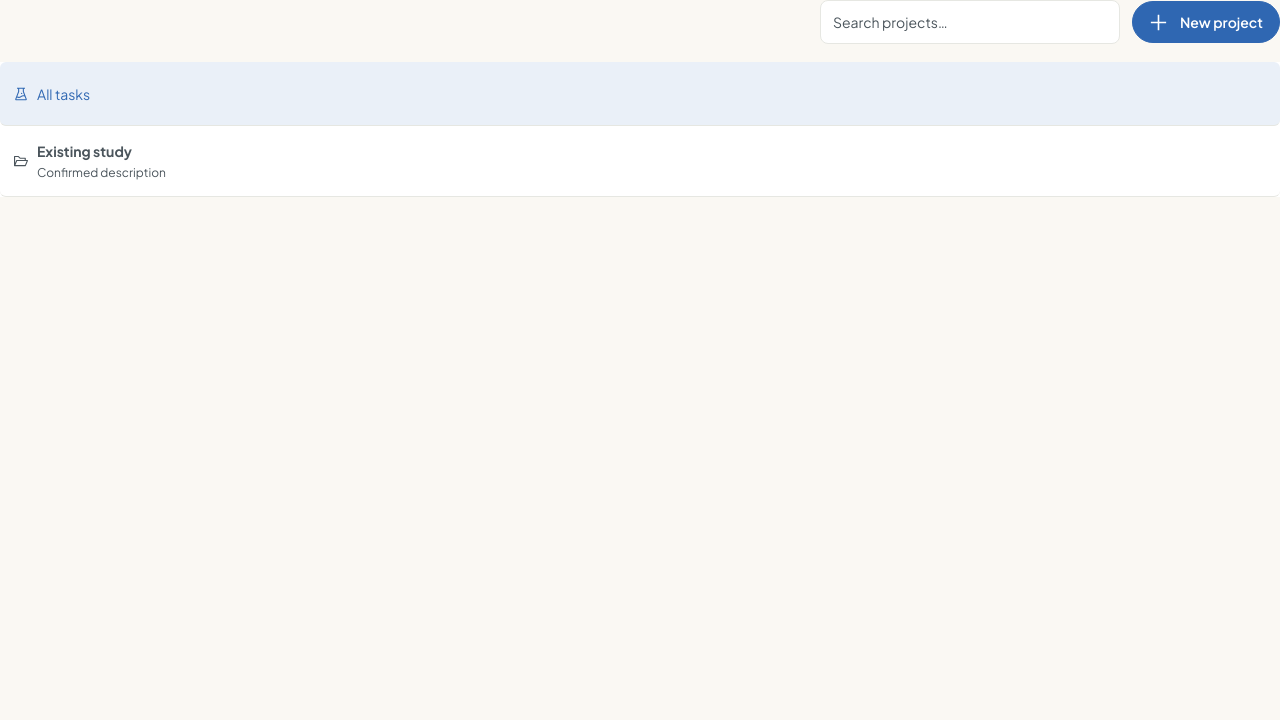
preserves existing rows and unacknowledged receipts until a fresh list includes their IDs
Expected: the button "Existing study Confirmed description" is shown, [0, 126, 1279, 197]
Click the button "New project" at (1206, 22), box [1132, 1, 1279, 43]
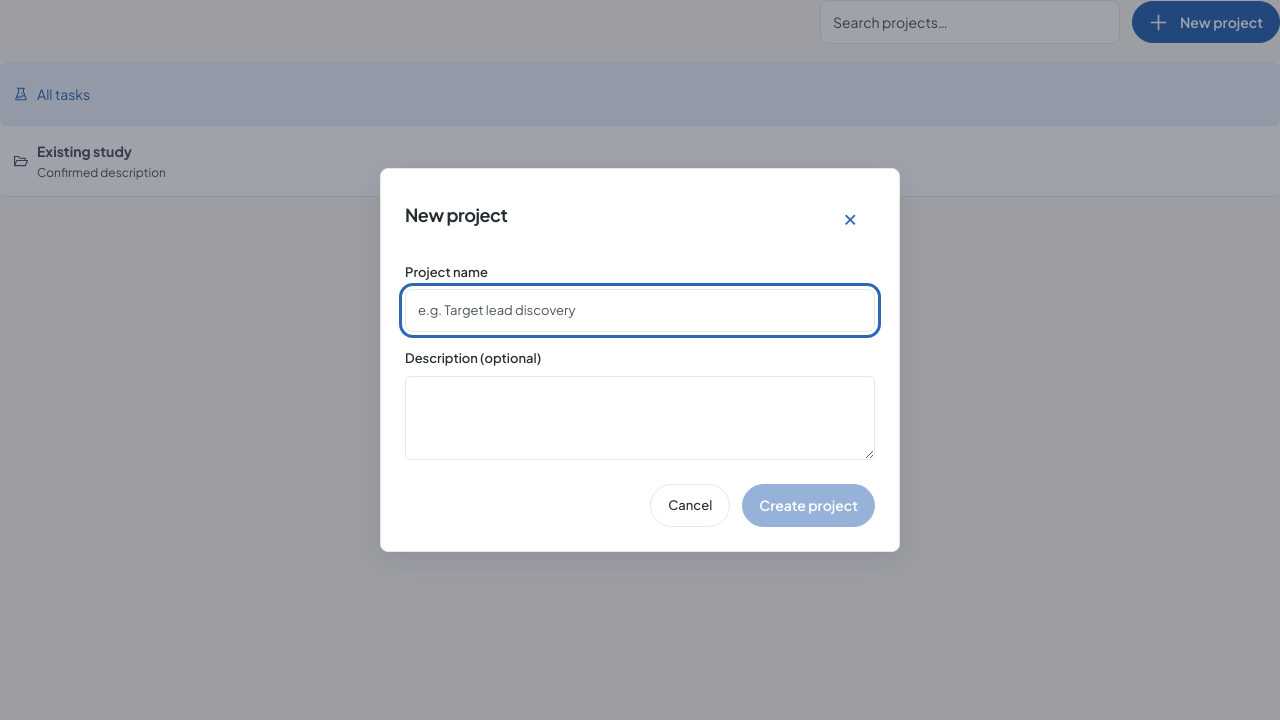
Type "New study" into the field labelled "Project name" at (640, 311), box [405, 289, 875, 332]
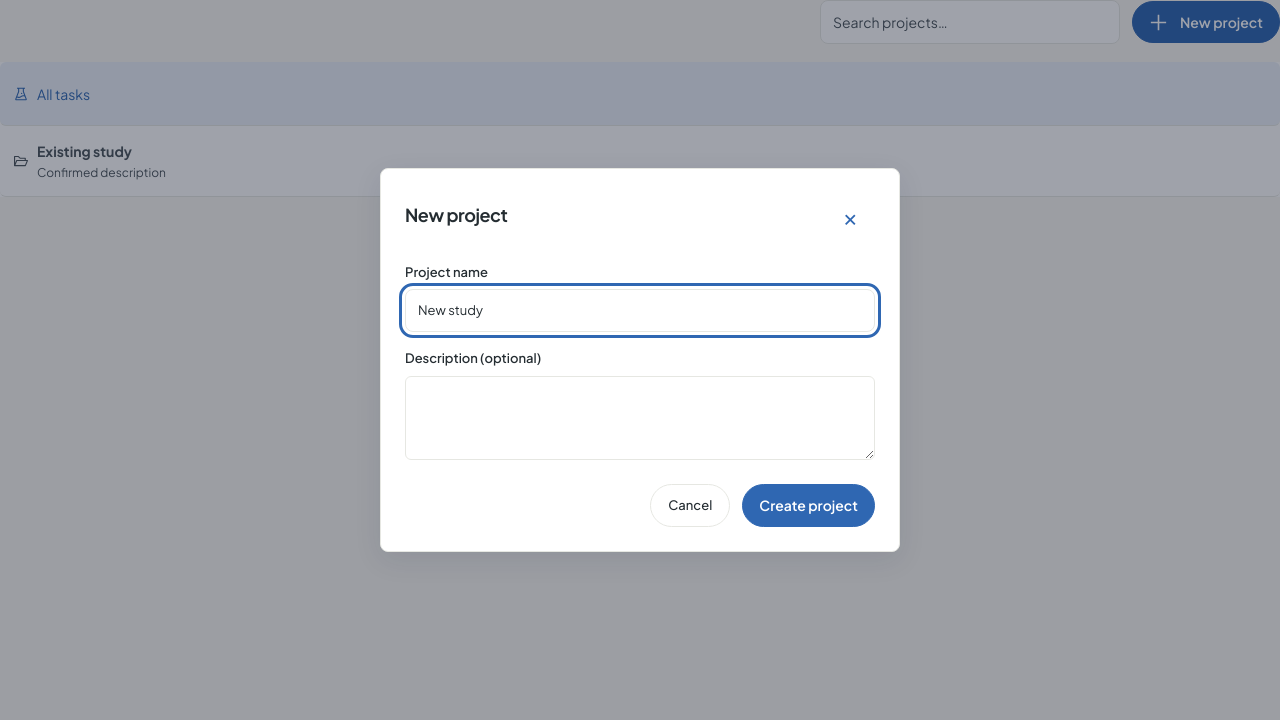
Click the button "Create project" at (809, 506), box [742, 484, 875, 527]
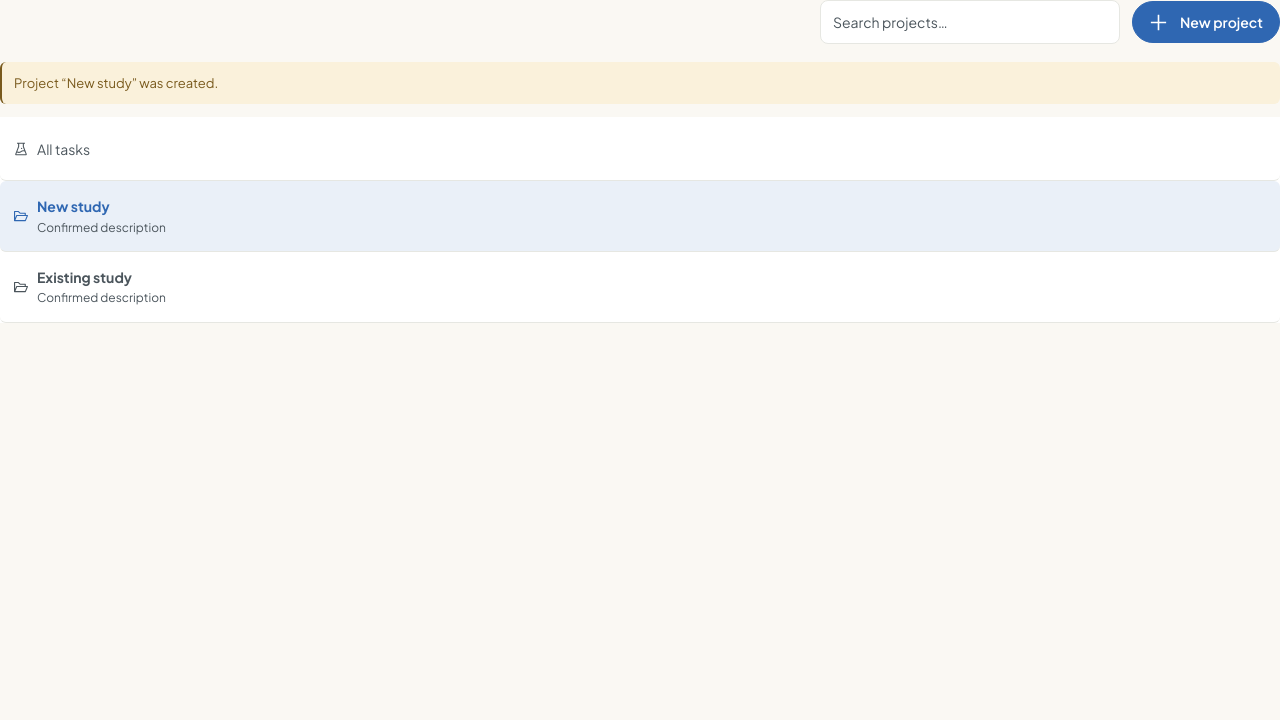
Expected: the button "Existing study Confirmed description" is shown, [0, 252, 1279, 323]
Expected: the dialog is gone
Expected: the number of buttons "New study Confirmed description" is 1, [0, 182, 1279, 252]
